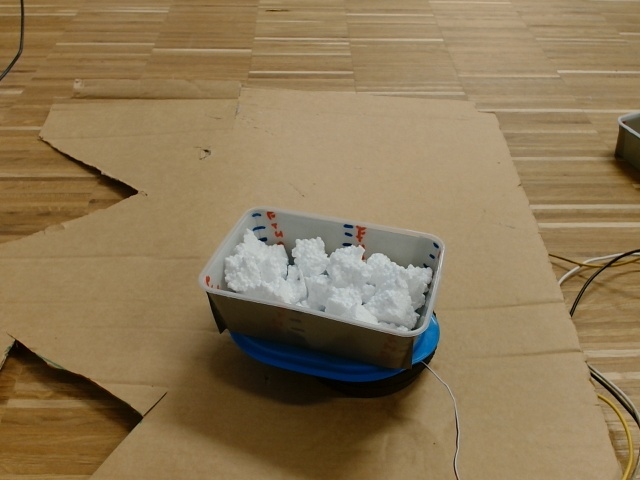Small_half: (203, 202, 446, 339)
